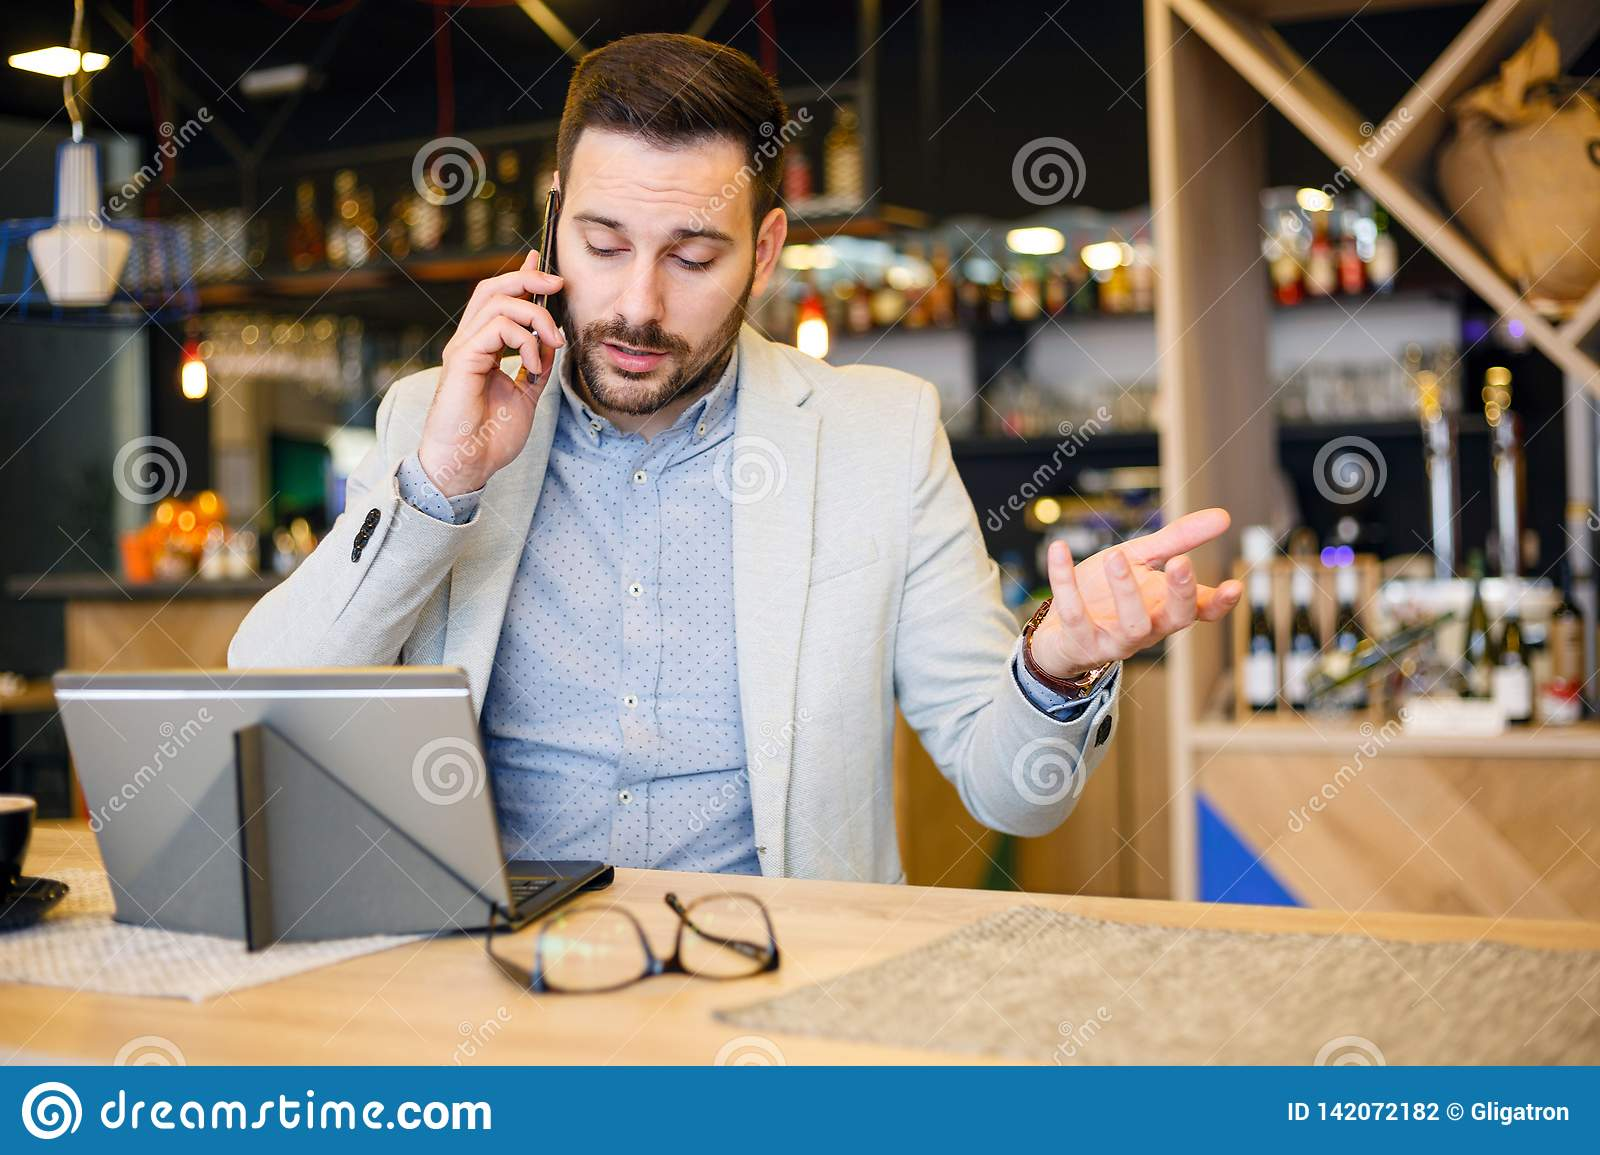phone: (519, 178, 564, 391)
talk: (412, 163, 752, 493)
